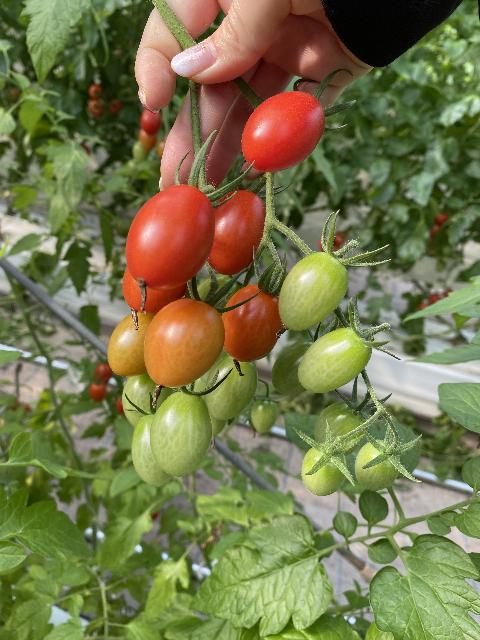l_fully_ripened: (125, 182, 216, 291), (240, 90, 325, 173), (207, 188, 266, 277), (222, 283, 283, 363), (122, 266, 195, 313)
l_green: (279, 252, 348, 331), (149, 391, 212, 477), (296, 326, 373, 393), (205, 355, 259, 420), (315, 399, 370, 457), (133, 414, 173, 486), (123, 372, 176, 426), (301, 441, 349, 496), (271, 339, 317, 396), (355, 439, 401, 491), (191, 273, 244, 315), (250, 395, 278, 434)
l_half_ripened: (143, 297, 226, 388), (107, 310, 155, 375)
